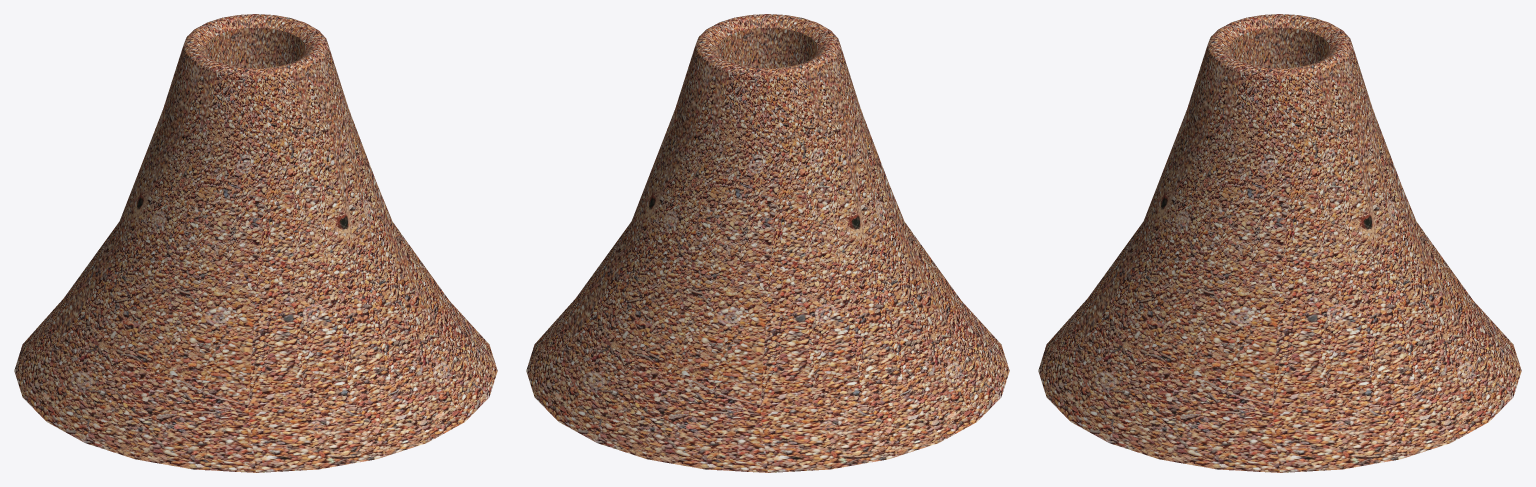
Rendered from antHill.fbx.
The picture shows the model from 3 angles, left to right: view 1: azimuth 30°, elevation 25°; view 2: azimuth 150°, elevation 25°; view 3: azimuth 270°, elevation 25°; orthographic projection.
Visible parts, largest first — view 1: antHill; view 2: antHill; view 3: antHill.
Boxes of the visible parts, x1,y1,x2,y2 form: antHill: [14, 14, 497, 472]; antHill: [526, 14, 1009, 472]; antHill: [1038, 14, 1521, 472].
Bounding box in the file's own units: 148 × 113 × 148.
1 material, 1 textured.
